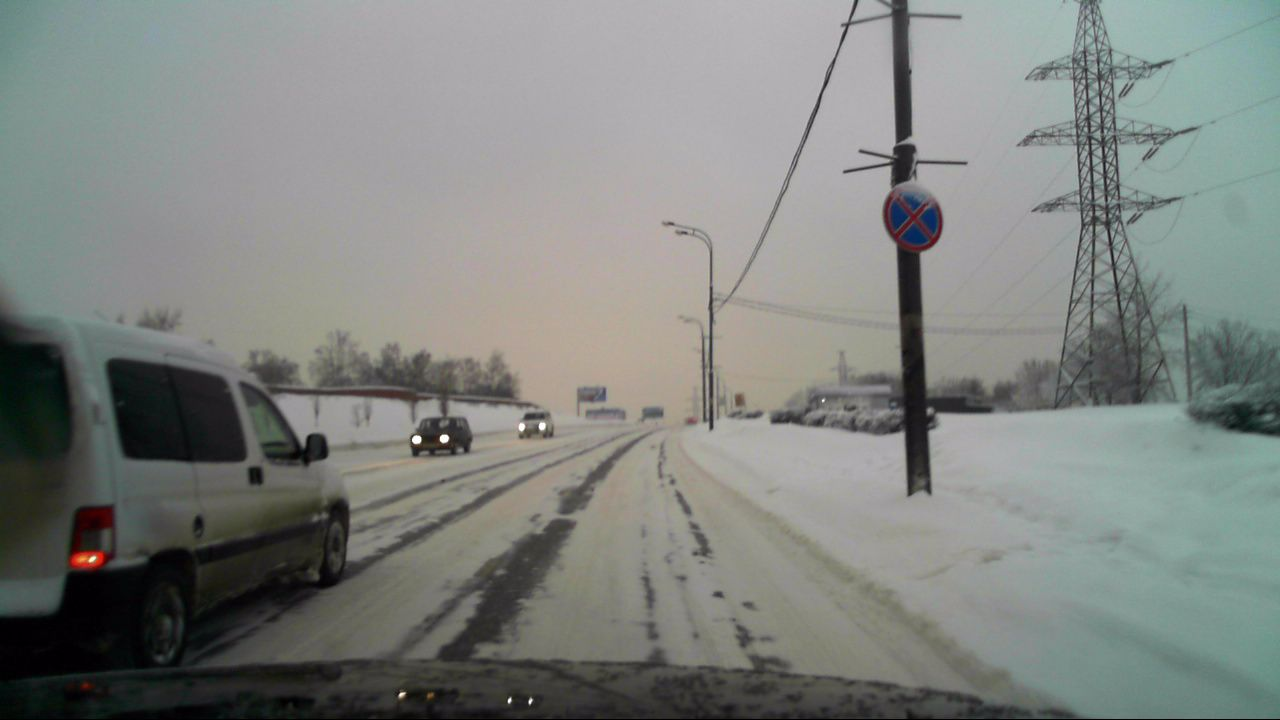No Parking: (880, 180, 946, 252)
